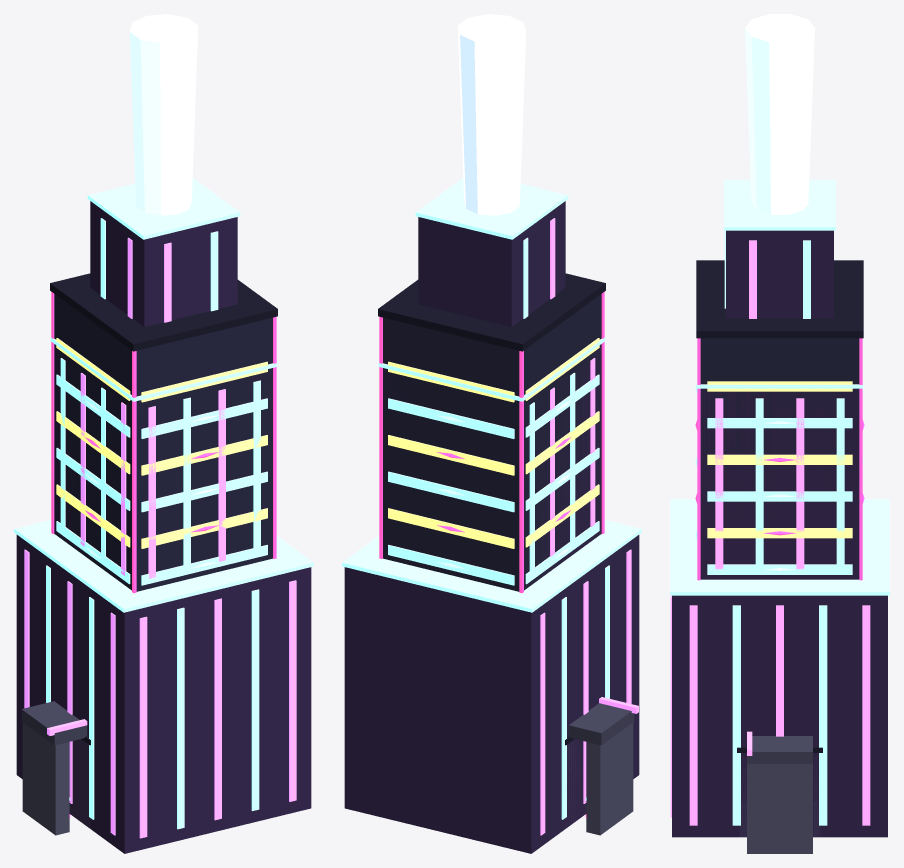
The model's file is neon.glb.
The picture shows the model from 3 angles, left to right: view 1: azimuth 30°, elevation 25°; view 2: azimuth 150°, elevation 25°; view 3: azimuth 270°, elevation 25°; orthographic projection.
Visible parts, largest first — view 1: tower_b, tower_a, searchlight, tunnel_arch_city, shop_row, tower_c; view 2: tower_b, tower_a, searchlight, tunnel_arch_city, shop_row, tower_c; view 3: tower_b, tower_a, searchlight, tunnel_arch_city, shop_row, tower_c.
Boxes of the visible parts, left/top/right/bottom form: tower_b: left=14, top=178, right=313, bottom=853; tower_a: left=50, top=273, right=277, bottom=593; searchlight: left=129, top=14, right=198, bottom=215; tunnel_arch_city: left=21, top=701, right=87, bottom=835; shop_row: left=69, top=736, right=90, bottom=828; tower_c: left=84, top=400, right=219, bottom=568; tower_b: left=342, top=178, right=641, bottom=853; tower_a: left=378, top=273, right=605, bottom=593; searchlight: left=457, top=14, right=526, bottom=215; tunnel_arch_city: left=568, top=697, right=638, bottom=835; shop_row: left=565, top=736, right=585, bottom=827; tower_c: left=436, top=400, right=571, bottom=568; tower_b: left=670, top=179, right=889, bottom=837; tower_a: left=696, top=260, right=863, bottom=580; searchlight: left=745, top=14, right=814, bottom=214; tunnel_arch_city: left=747, top=731, right=812, bottom=853; shop_row: left=737, top=747, right=822, bottom=837; tower_c: left=695, top=384, right=864, bottom=571.
Size of the model in its own units: 22.4 by 62.6 by 16.3.
